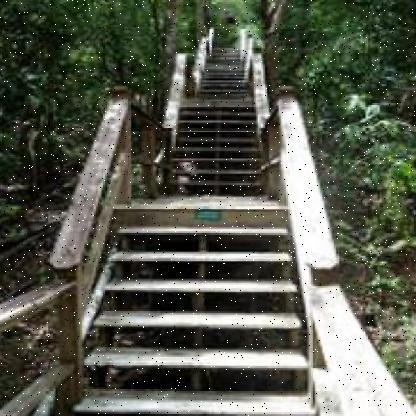stair_up: (78, 213, 309, 416)
